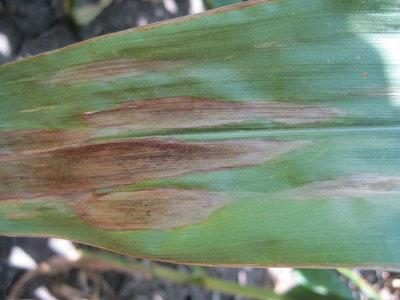Corn leaf blight: (7, 9, 400, 200)
